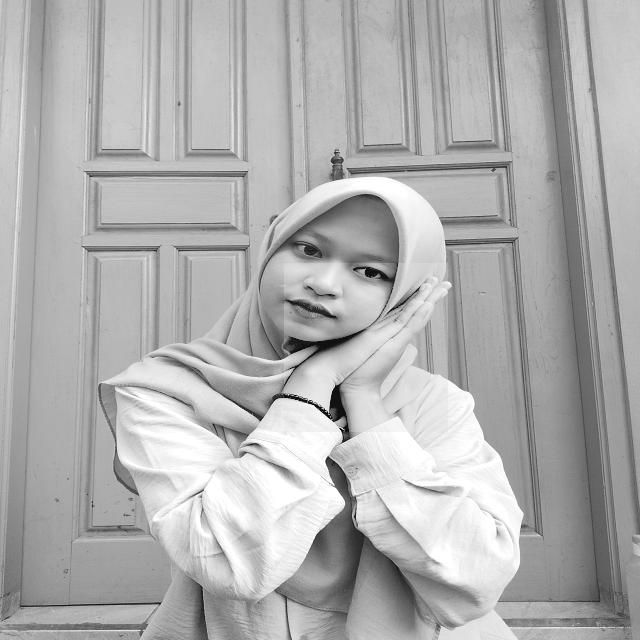tidur: (284, 263, 448, 432)
